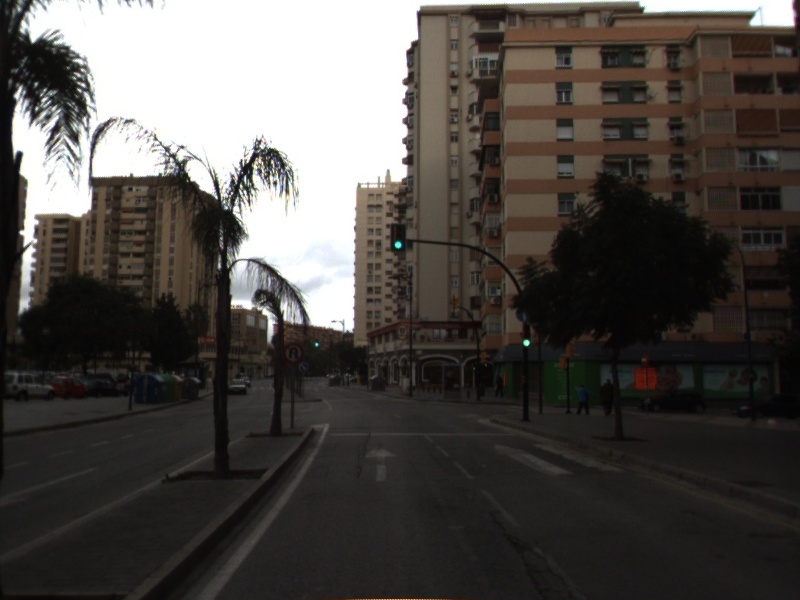STRAIGHT: (362, 441, 400, 484)
